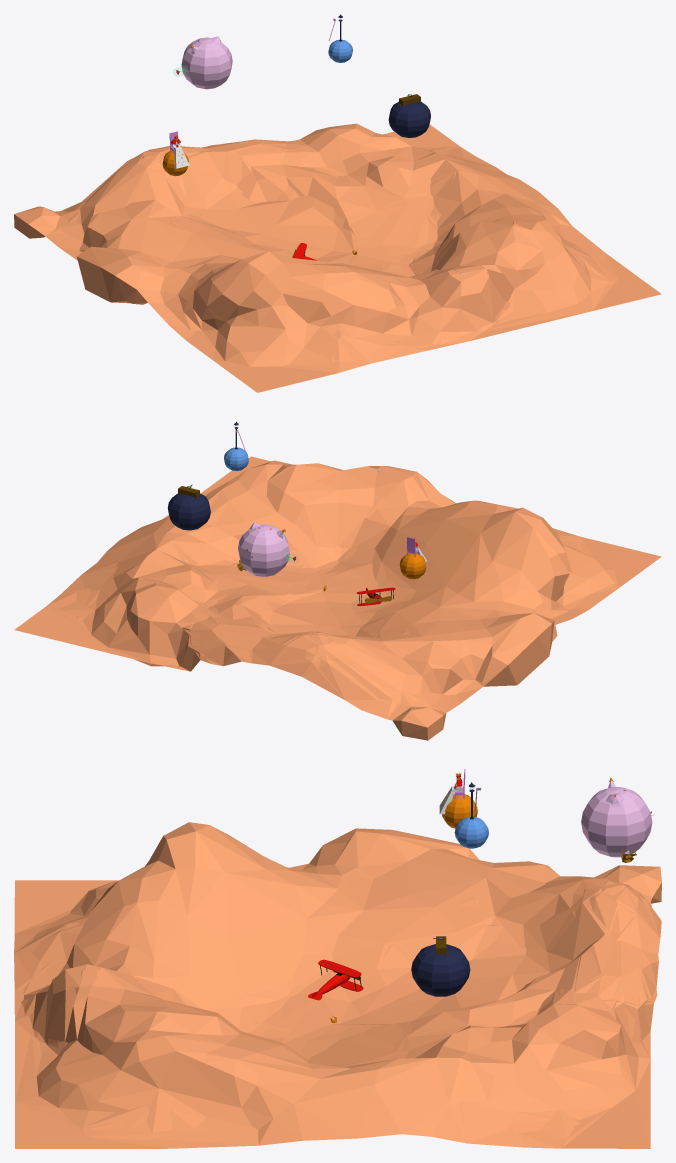
Rendered from The Little Prince.fbx.
The picture shows the model from 3 angles, top to bottom: view 1: azimuth 30°, elevation 25°; view 2: azimuth 150°, elevation 25°; view 3: azimuth 270°, elevation 25°; orthographic projection. The views are drawn at different scales.
Parts seen in each view (by area): view 1: Plane.002, Sphere.008, Cylinder.052, Cube.007, Sphere.009; view 2: Plane.002, Sphere.008, Cylinder.052, Cube.007, Sphere.009; view 3: Plane.002, Sphere.008, Cylinder.052, Cube.007, Sphere.009, Cylinder.023.
Boxes of the visible parts, x1,y1,x2,y2 form: Plane.002: (14,123,661,392); Sphere.008: (173,36,232,89); Cylinder.052: (388,94,430,137); Cube.007: (162,131,189,176); Sphere.009: (328,14,352,62); Plane.002: (14,456,661,740); Sphere.008: (235,522,298,576); Cylinder.052: (167,484,210,530); Cube.007: (399,536,426,579); Sphere.009: (224,421,248,471); Plane.002: (14,822,661,1148); Sphere.008: (581,777,652,862); Cylinder.052: (411,936,470,996); Cube.007: (439,769,477,828); Sphere.009: (454,782,488,848); Cylinder.023: (308,959,363,1000).
Size of the model in its own units: 21051 by 9822 by 20386.
